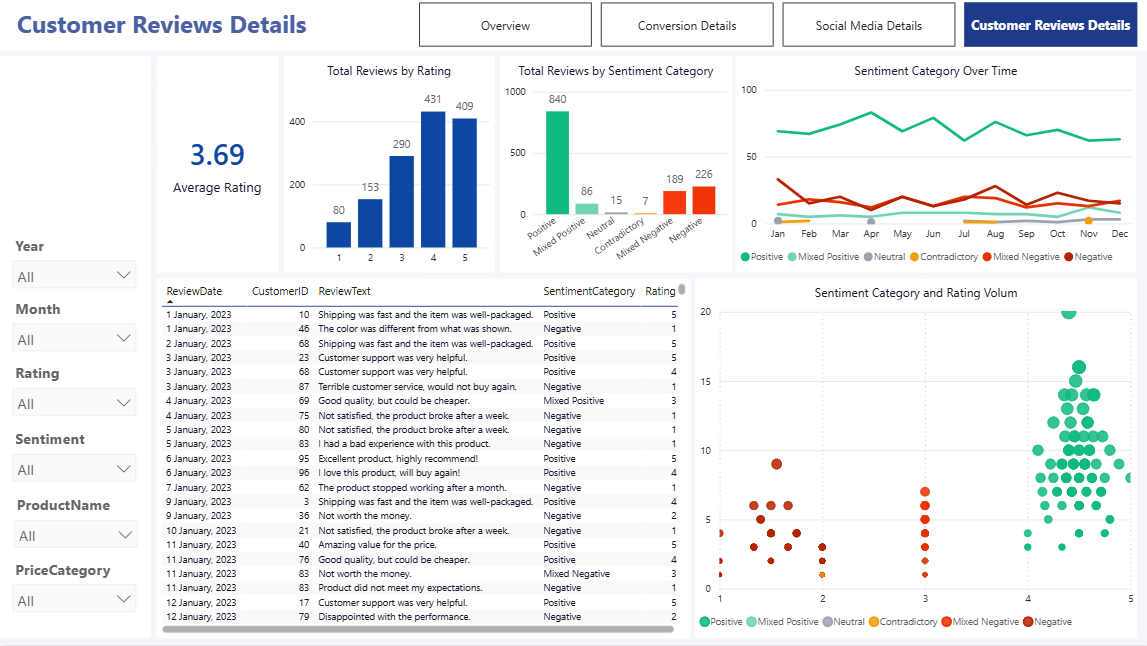

This screenshot's page, from the dashboard's own definition file:
{"tool":"powerbi","page":{"name":"Customer Reviews Details","canvas":[1280,720],"ordinal":3},"visuals":[{"type":"textbox","box":[0,0,1280.8,58.3],"z":0},{"type":"cardVisual","title":"Coversion Rate","fields":{"Data":["_Calclations.AvgRating"]},"box":[175,65.2,135.2,240.2],"z":1000},{"type":"columnChart","title":"Total Reviews by Rating","fields":{"Category":["fact_customer_reviews_with_sentiment.Rating"],"Y":["_Calclations.NumberofCustomerReviews"]},"box":[316.5,65.2,233.8,240.2],"z":2000},{"type":"shape","box":[0,65.2,168.6,645.8],"z":3000},{"type":"slicer","fields":{"Values":["dim_products.ProductName"]},"box":[6.1,546.1,157.5,72.7],"z":4000},{"type":"slicer","fields":{"Values":["dim_products.PriceCategory"]},"box":[4.5,618.8,157.5,72.7],"z":5000},{"type":"columnChart","title":"Total Reviews by Sentiment Category","fields":{"Y":["_Calclations.NumberofCustomerReviews"],"Category":["fact_customer_reviews_with_sentiment.SentimentCategory"]},"box":[556.7,65.2,257.7,240.2],"z":6000},{"type":"tableEx","fields":{"Values":["fact_customer_reviews_with_sentiment.ReviewDate","fact_customer_reviews_with_sentiment.CustomerID","fact_customer_reviews_with_sentiment.ReviewText","fact_customer_reviews_with_sentiment.SentimentCategory","fact_customer_reviews_with_sentiment.Rating"]},"box":[175,311.8,593.3,399.2],"z":7000},{"type":"lineChart","title":"Sentiment Category Over Time","fields":{"Category":["Calendar.MonthNameShort"],"Y":["_Calclations.NumberofCustomerReviews"],"Series":["fact_customer_reviews_with_sentiment.SentimentCategory"]},"box":[819.2,65.2,445.4,240.2],"z":8000},{"type":"scatterChart","title":"Sentiment Category and Rating Volum","fields":{"Y":["_Calclations.NumberofCustomerReviews"],"Category":["fact_customer_reviews_with_sentiment.CustomerID"],"Series":["fact_customer_reviews_with_sentiment.SentimentCategory"],"X":["_Calclations.Average Rating"],"Size":["_Calclations.NumberofCustomerReviews"]},"box":[773,311.8,491.5,399.2],"z":9000},{"type":"slicer","fields":{"Values":["fact_customer_reviews_with_sentiment.Rating"]},"box":[4.5,400.8,157.5,72.7],"z":10000},{"type":"slicer","fields":{"Values":["fact_customer_reviews_with_sentiment.SentimentCategory"]},"box":[4.5,473.5,157.5,72.7],"z":11000},{"type":"pageNavigator","box":[466,4.8,800.1,49.3],"z":12000},{"type":"slicer","fields":{"Values":["Calendar.Year"]},"box":[4.5,258.4,157.5,72.7],"z":13000},{"type":"slicer","fields":{"Values":["Calendar.MonthNameLong"]},"box":[4.5,327.6,157.5,72.7],"z":14000}]}

Visuals, with their boxes in screenshot pixels (x1, y1, x2, y2), scaled from the page's 1280x720 canvas onto the 1147x646 screenshot:
textbox: {"x1": 0, "y1": 0, "x2": 1146, "y2": 52}
"Coversion Rate" cardVisual: {"x1": 157, "y1": 58, "x2": 278, "y2": 274}
"Total Reviews by Rating" columnChart: {"x1": 284, "y1": 58, "x2": 493, "y2": 274}
shape: {"x1": 0, "y1": 58, "x2": 151, "y2": 638}
slicer - dim_products.ProductName: {"x1": 5, "y1": 490, "x2": 147, "y2": 555}
slicer - dim_products.PriceCategory: {"x1": 4, "y1": 555, "x2": 145, "y2": 620}
"Total Reviews by Sentiment Category" columnChart: {"x1": 499, "y1": 58, "x2": 730, "y2": 274}
tableEx - fact_customer_reviews_with_sentiment.ReviewDate x fact_customer_reviews_with_sentiment.CustomerID: {"x1": 157, "y1": 280, "x2": 688, "y2": 638}
"Sentiment Category Over Time" lineChart: {"x1": 734, "y1": 58, "x2": 1133, "y2": 274}
"Sentiment Category and Rating Volum" scatterChart: {"x1": 693, "y1": 280, "x2": 1133, "y2": 638}
slicer - fact_customer_reviews_with_sentiment.Rating: {"x1": 4, "y1": 360, "x2": 145, "y2": 425}
slicer - fact_customer_reviews_with_sentiment.SentimentCategory: {"x1": 4, "y1": 425, "x2": 145, "y2": 490}
pageNavigator: {"x1": 418, "y1": 4, "x2": 1135, "y2": 49}
slicer - Calendar.Year: {"x1": 4, "y1": 232, "x2": 145, "y2": 297}
slicer - Calendar.MonthNameLong: {"x1": 4, "y1": 294, "x2": 145, "y2": 359}
